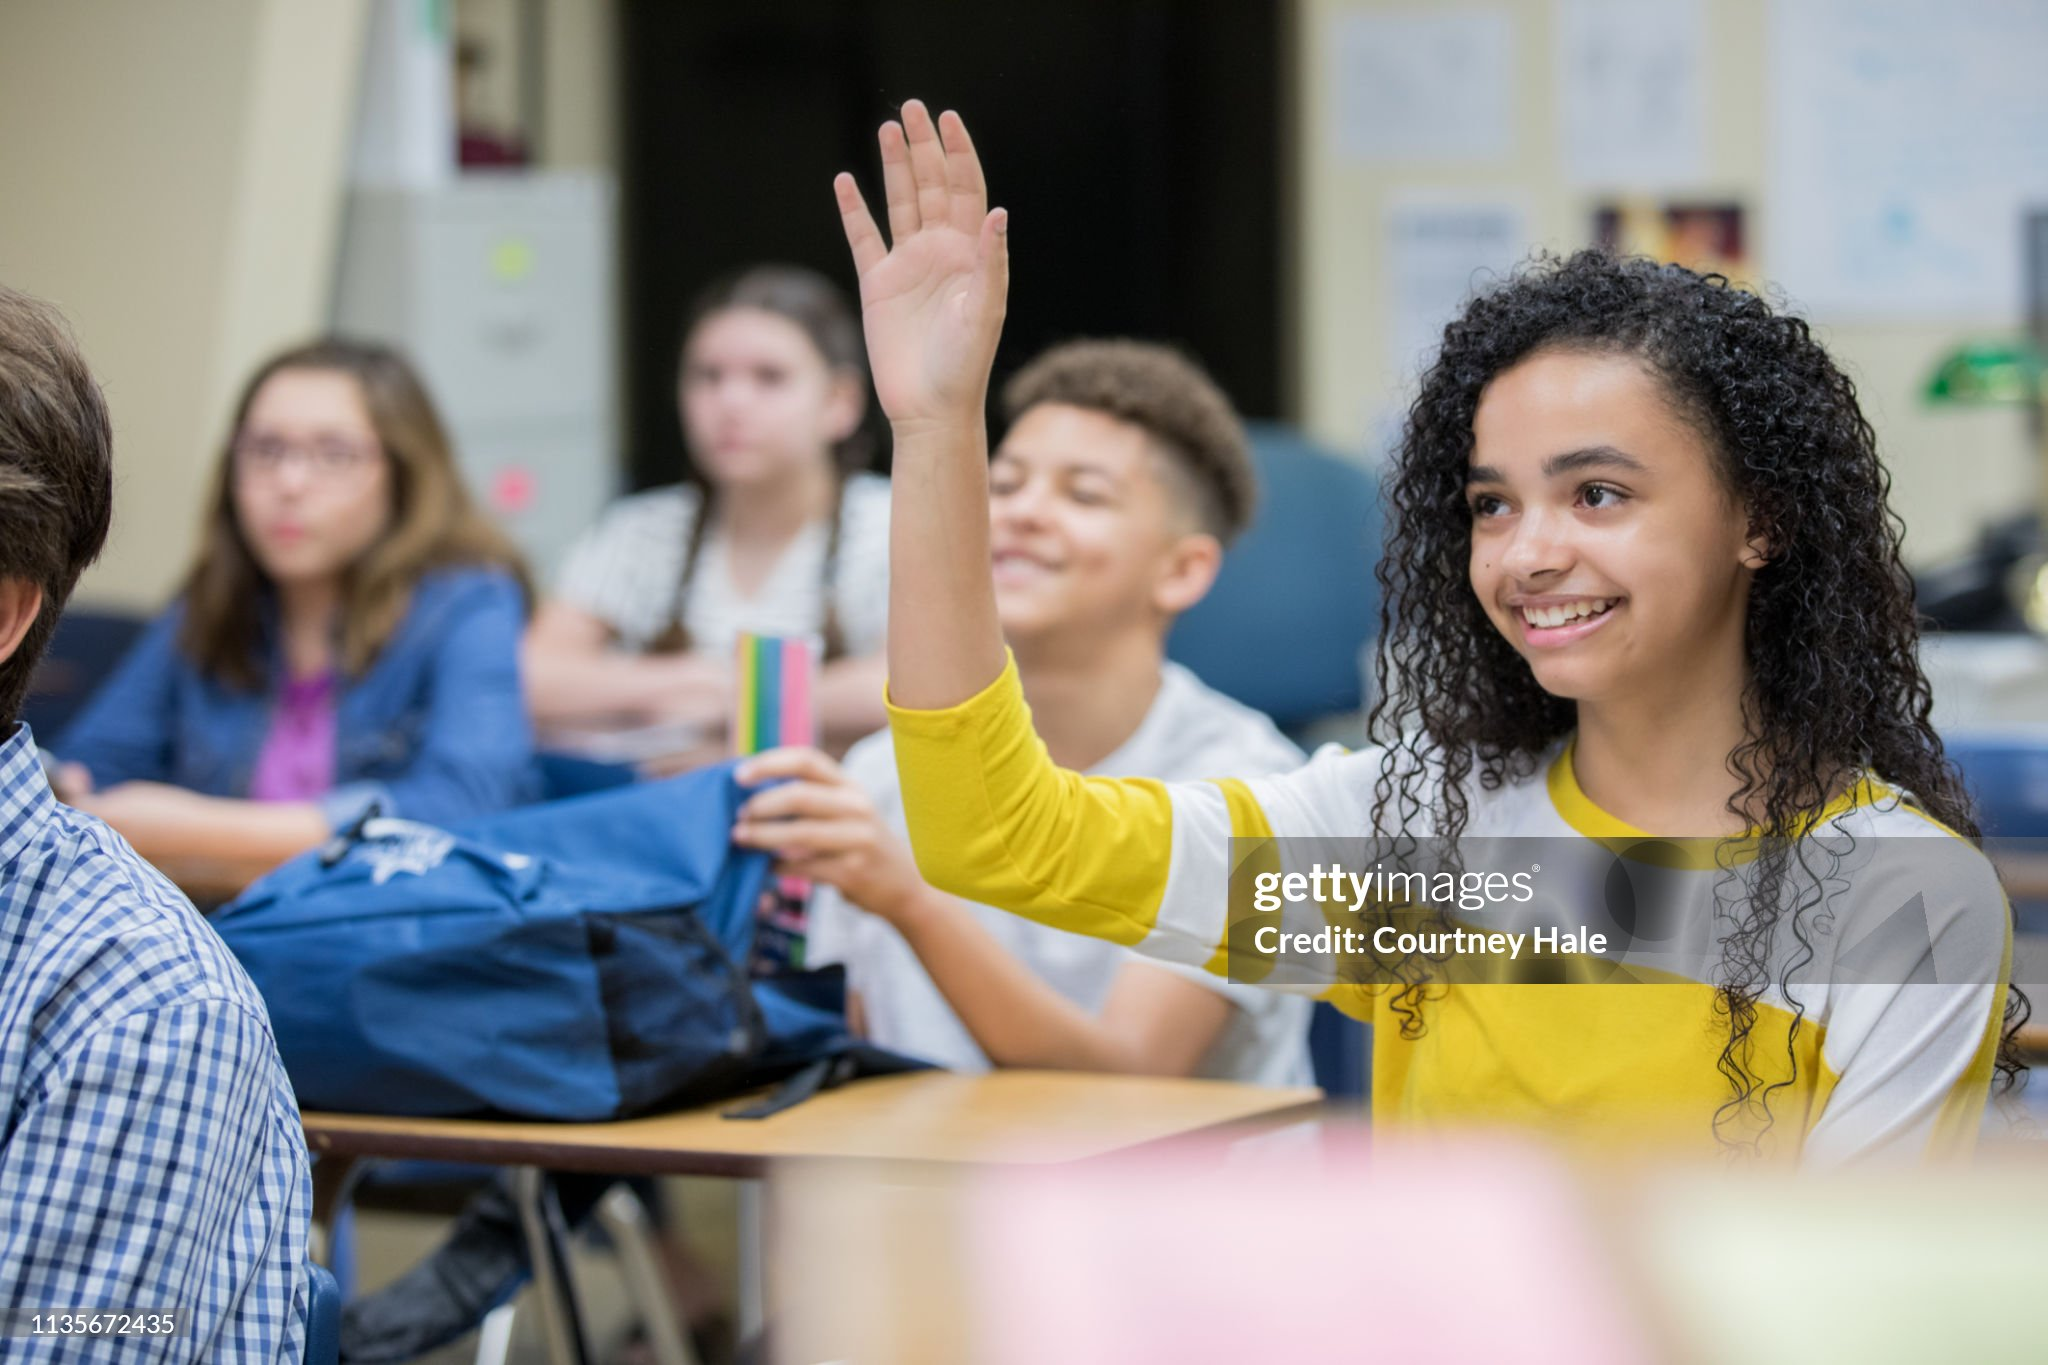entre15-30-porcento: (2, 93, 2022, 1144)
